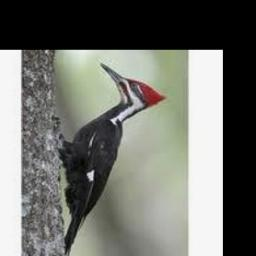Woodpecker: (58, 63, 168, 256)
